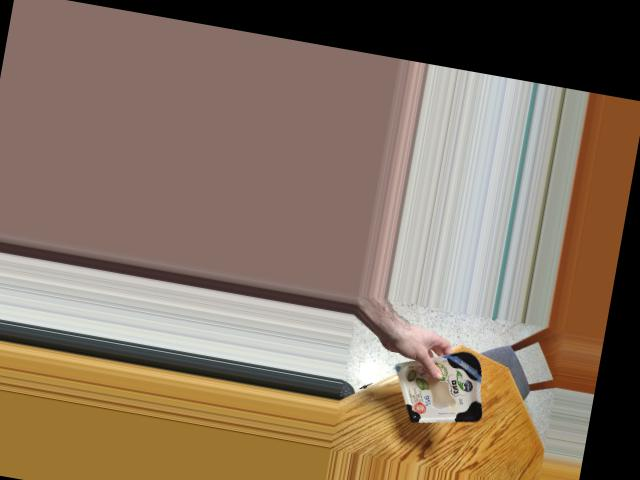cheese: (401, 345, 489, 431)
